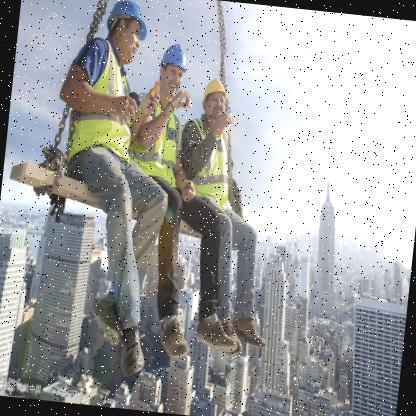capacete: (98, 0, 152, 65), (154, 40, 190, 106), (196, 75, 230, 129)
colete_refletivo: (65, 40, 143, 161), (176, 113, 238, 205), (130, 94, 186, 181)
